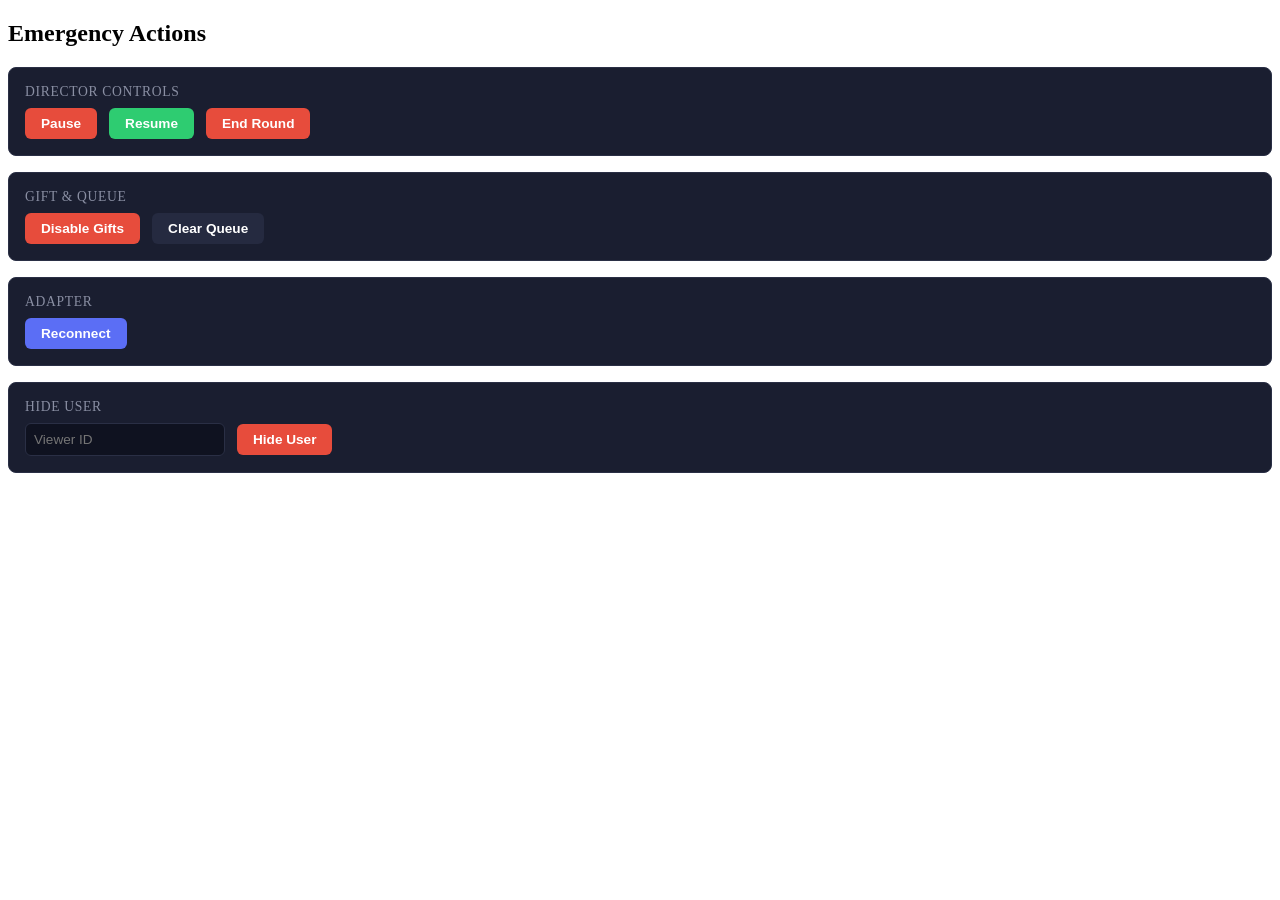
Scenario: EmergencyActions › hide user requires viewer ID
Click the button with test id "hide-user-btn" at coordinates (285, 439), box top-left (237, 424), bottom-right (332, 455)
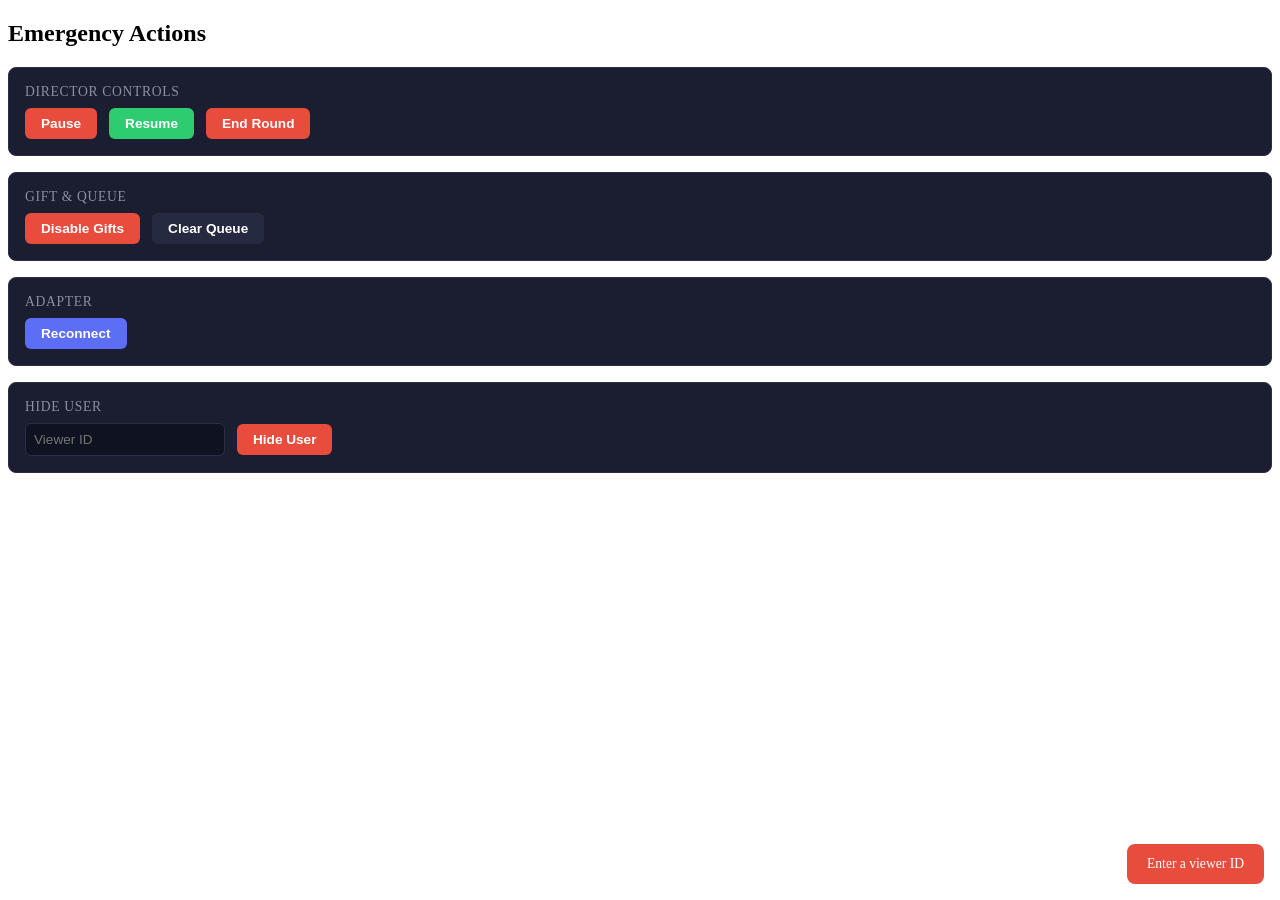
Now the text with test id "emergency-message" reads "Enter a viewer ID", box top-left (1147, 856), bottom-right (1244, 871)
